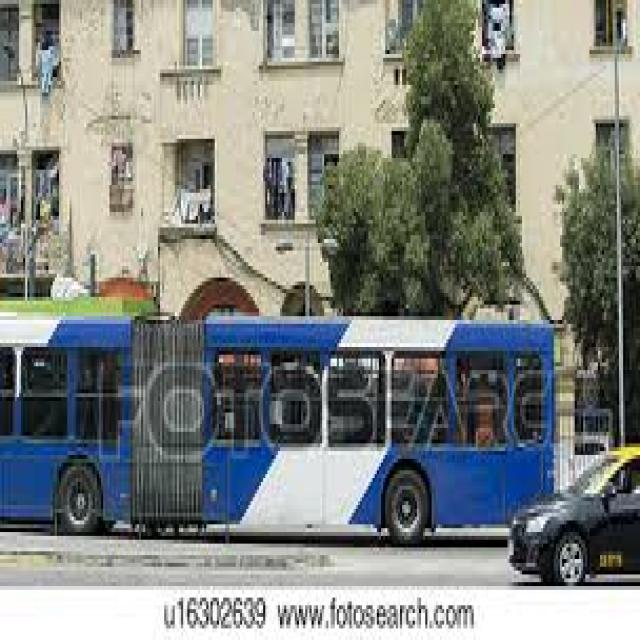AB: (2, 301, 564, 551)
